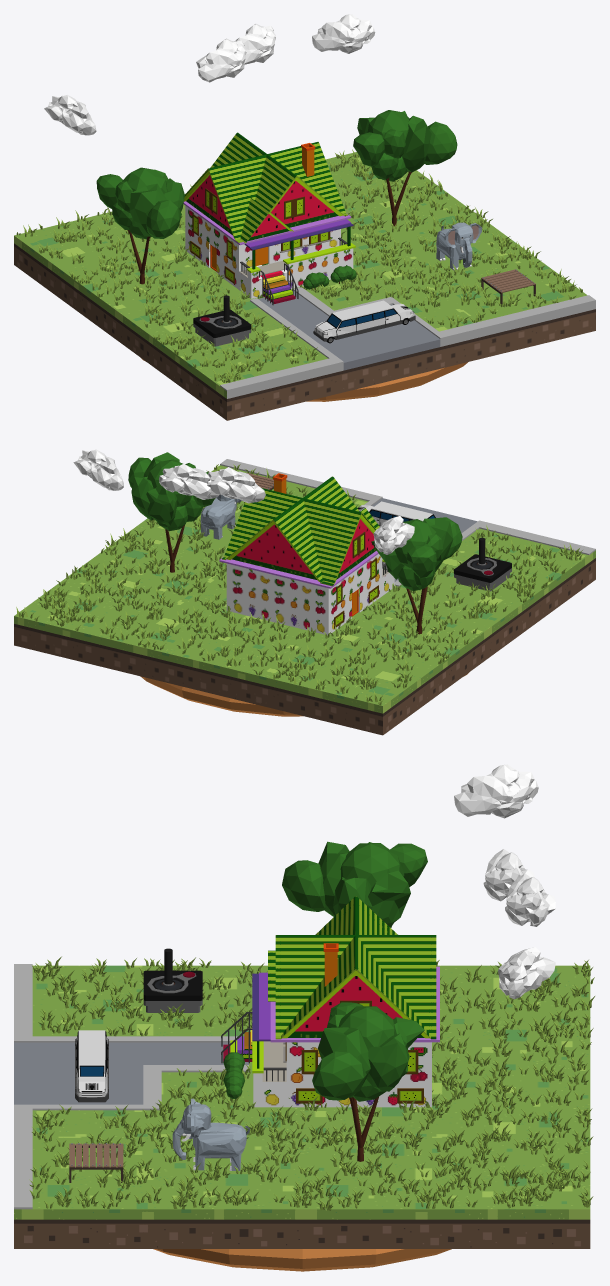
3 views of the same model, one above another, from view 1: azimuth 30°, elevation 25°; view 2: azimuth 150°, elevation 25°; view 3: azimuth 270°, elevation 25° (orthographic). The views are drawn at different scales.
Parts seen in each view (by area): view 1: Cube.006, Cube.1063, Circle.012_Grass_0.192, Cube.007, tree, tree.001, VEHICLES_LIMOUSINE, OBJRANDOM_JOYSTICK, ANIMAL_ELEFANTE, UNDERGROUND_PIZZA, Cube.009; view 2: Cube.006, Cube.1063, Circle.012_Grass_0.192, Cube.007, tree.001, tree, OBJRANDOM_JOYSTICK, UNDERGROUND_PIZZA, ANIMAL_ELEFANTE, VEHICLES_LIMOUSINE; view 3: Cube.006, Circle.012_Grass_0.192, Cube.1063, tree, Cube.007, tree.001, UNDERGROUND_PIZZA, ANIMAL_ELEFANTE, OBJRANDOM_JOYSTICK, VEHICLES_LIMOUSINE, Cube.009.
Boxes of the visible parts, <box> form: Cube.006: <box>14,152,595,420</box>; Cube.1063: <box>183,132,355,305</box>; Circle.012_Grass_0.192: <box>16,149,582,382</box>; Cube.007: <box>44,14,375,135</box>; tree: <box>353,110,457,226</box>; tree.001: <box>96,167,184,284</box>; VEHICLES_LIMOUSINE: <box>313,300,415,343</box>; OBJRANDOM_JOYSTICK: <box>193,295,251,346</box>; ANIMAL_ELEFANTE: <box>436,222,482,270</box>; UNDERGROUND_PIZZA: <box>141,358,467,401</box>; Cube.009: <box>481,269,535,304</box>; Cube.006: <box>14,459,595,735</box>; Cube.1063: <box>219,473,394,635</box>; Circle.012_Grass_0.192: <box>16,464,582,705</box>; Cube.007: <box>73,449,414,554</box>; tree.001: <box>371,517,462,634</box>; tree: <box>128,452,214,572</box>; OBJRANDOM_JOYSTICK: <box>454,537,511,591</box>; UNDERGROUND_PIZZA: <box>140,673,468,716</box>; ANIMAL_ELEFANTE: <box>200,494,241,539</box>; VEHICLES_LIMOUSINE: <box>357,501,435,526</box>; Cube.006: <box>14,964,590,1248</box>; Circle.012_Grass_0.192: <box>29,956,594,1210</box>; Cube.1063: <box>221,896,439,1107</box>; tree: <box>312,1002,424,1161</box>; Cube.007: <box>454,764,555,999</box>; tree.001: <box>282,841,427,927</box>; UNDERGROUND_PIZZA: <box>153,1249,451,1271</box>; ANIMAL_ELEFANTE: <box>172,1098,250,1170</box>; OBJRANDOM_JOYSTICK: <box>143,948,202,1012</box>; VEHICLES_LIMOUSINE: <box>75,1030,108,1102</box>; Cube.009: <box>69,1143,123,1182</box>.
Bounding box in the file's own units: 4071 × 2387 × 4040.
Materials: 43 (5 with a texture image).
